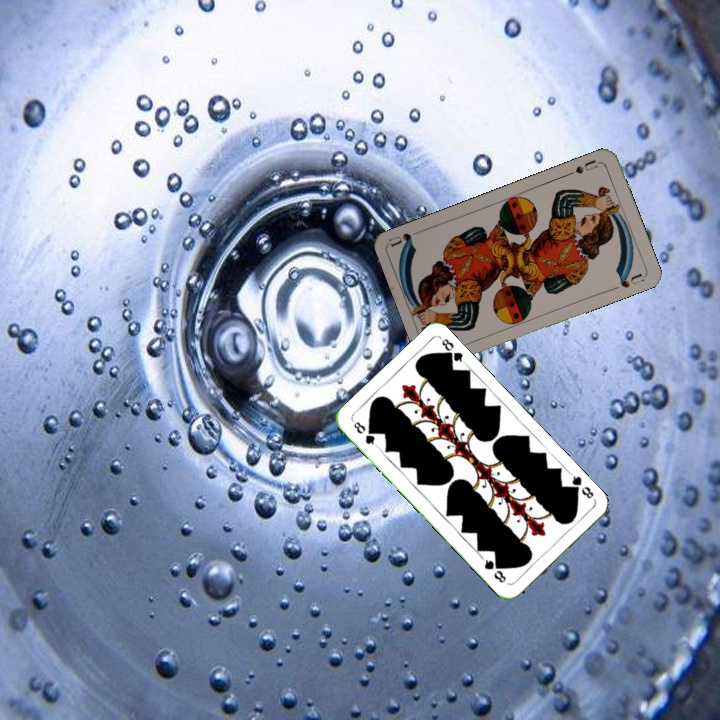G8: (349, 417, 380, 450), (565, 470, 596, 502)
SU: (564, 156, 603, 178)
